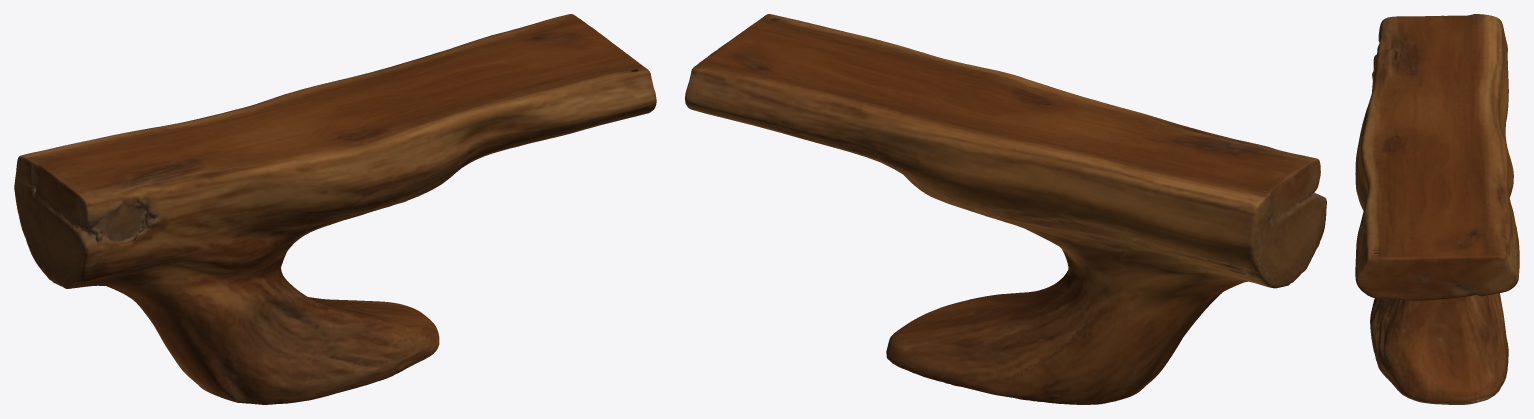
File: live-edge-timber-bench.glb
3 views of the same model, side by side, from view 1: azimuth 30°, elevation 25°; view 2: azimuth 150°, elevation 25°; view 3: azimuth 270°, elevation 25° (orthographic). The views are drawn at different scales.
Parts seen in each view (by area): view 1: world; view 2: world; view 3: world.
Part boxes in pixels (x1,y1,x2,y2): world: (14, 14, 656, 404); world: (685, 14, 1326, 404); world: (1355, 14, 1519, 404).
Size of the model in its own units: 1 by 0.433 by 0.2852.
Materials: 1 (1 with a texture image).
